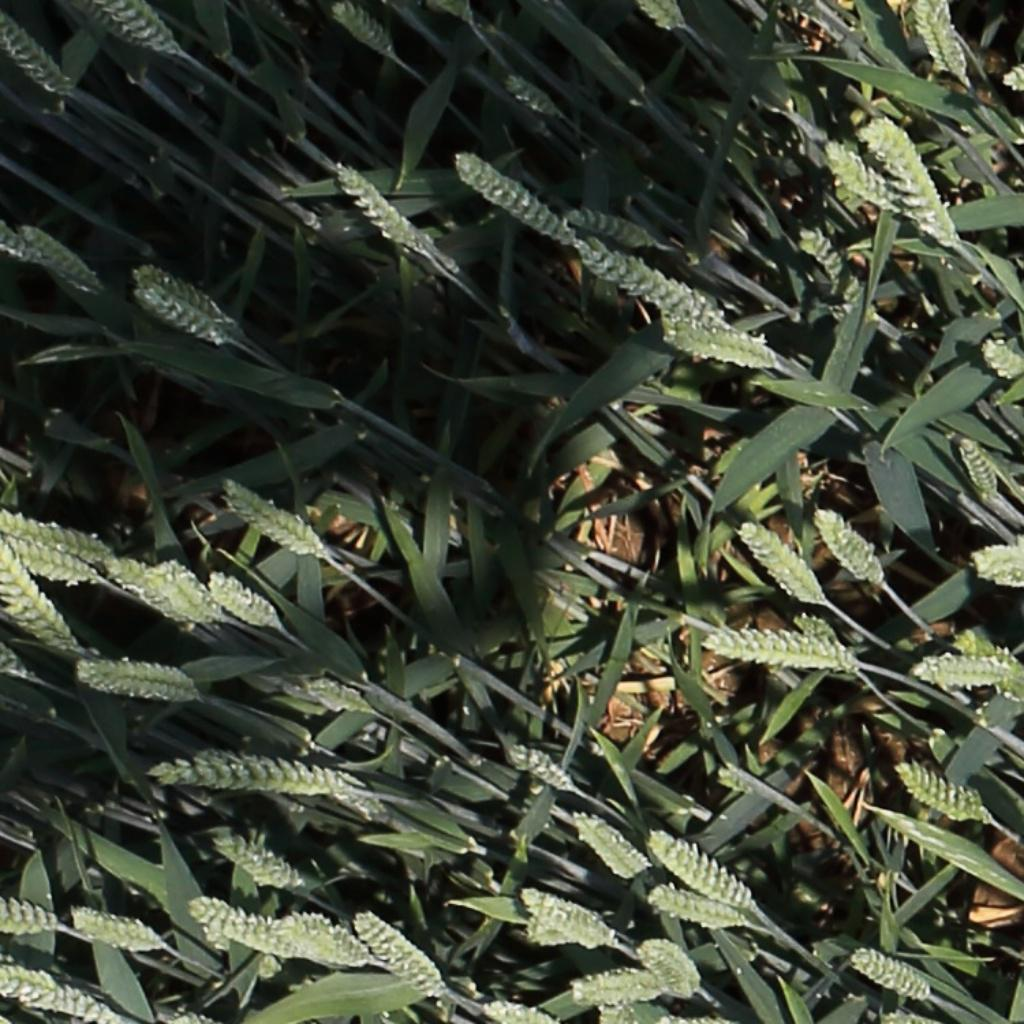0-0: (861, 111, 962, 253), (572, 237, 725, 328), (450, 150, 578, 248), (331, 158, 439, 260), (645, 828, 759, 912), (221, 478, 329, 564), (1, 540, 84, 650), (145, 753, 357, 796), (352, 907, 448, 996), (735, 517, 826, 607), (696, 630, 864, 676), (186, 895, 292, 962), (0, 503, 116, 564), (267, 910, 375, 974), (0, 8, 77, 95), (894, 759, 996, 824), (812, 506, 887, 592), (659, 322, 780, 374), (21, 223, 107, 296), (515, 887, 614, 950), (569, 809, 654, 882), (73, 655, 201, 702), (794, 222, 863, 306), (0, 529, 105, 584), (142, 556, 228, 623), (129, 263, 225, 322), (821, 139, 896, 214), (91, 0, 187, 56), (212, 832, 301, 890), (207, 568, 285, 633), (645, 880, 748, 929), (132, 283, 219, 341), (849, 944, 934, 1000), (913, 0, 969, 82), (790, 610, 859, 674), (69, 905, 166, 950), (636, 938, 705, 1001), (570, 965, 675, 1006), (20, 986, 126, 1023), (910, 652, 1024, 685), (567, 206, 656, 248), (324, 767, 390, 820), (969, 530, 1024, 592), (505, 745, 574, 794), (954, 430, 1000, 503), (327, 2, 390, 55), (304, 676, 370, 718), (0, 893, 63, 935), (501, 73, 559, 117), (0, 966, 70, 1002), (948, 626, 1019, 657), (978, 338, 1024, 384), (594, 997, 672, 1024), (105, 552, 152, 596), (479, 1001, 563, 1024), (637, 0, 688, 31), (524, 915, 571, 947), (0, 640, 36, 681), (0, 215, 32, 261), (152, 1005, 215, 1024), (875, 1008, 942, 1024), (201, 924, 233, 954), (1002, 61, 1024, 91)
